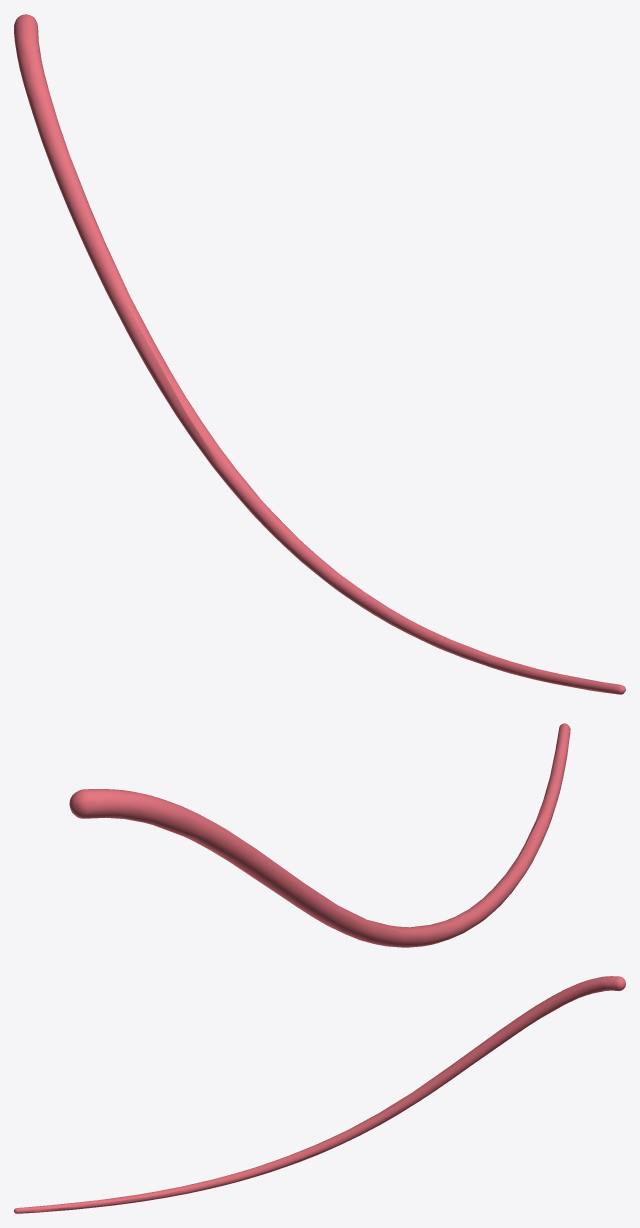
Rendered from fma51250_fj4992.glb.
The picture shows the model from 3 angles, top to bottom: view 1: azimuth 30°, elevation 25°; view 2: azimuth 150°, elevation 25°; view 3: azimuth 270°, elevation 25°; orthographic projection. The views are drawn at different scales.
Visible parts, largest first — view 1: FMA51250_FJ4992; view 2: FMA51250_FJ4992; view 3: FMA51250_FJ4992.
Part boxes in pixels (bbox=[...]): FMA51250_FJ4992: bbox=[14, 14, 625, 694]; FMA51250_FJ4992: bbox=[69, 723, 570, 947]; FMA51250_FJ4992: bbox=[14, 976, 625, 1213].
Bounding box in the file's own units: 0.00876 × 0.0193 × 0.0495.
